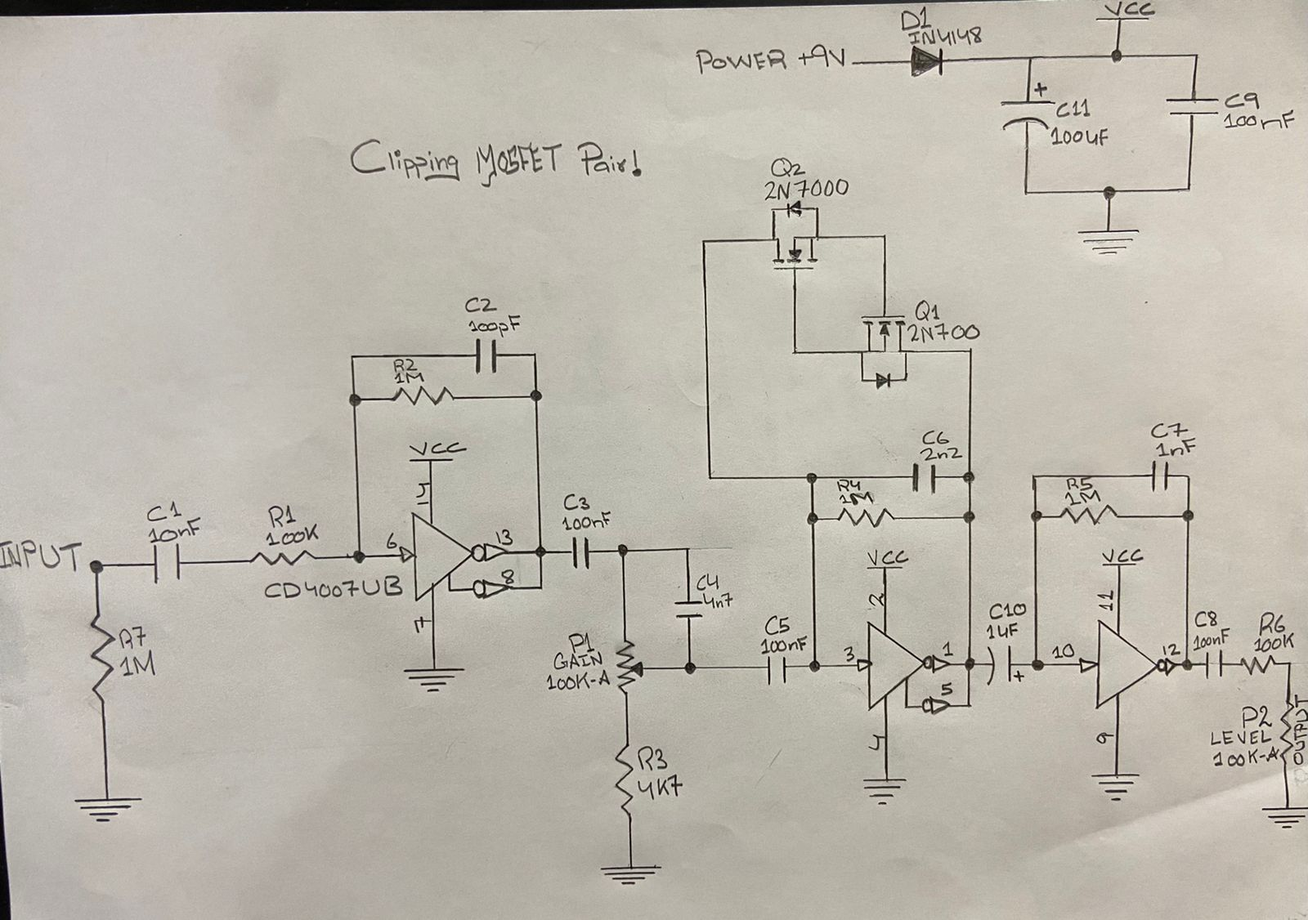capacitor.polarized: (999, 81, 1057, 133), (984, 644, 1028, 688)
capacitor.unpolarized: (1163, 93, 1220, 119), (151, 541, 183, 586), (472, 335, 499, 377), (910, 461, 939, 495), (569, 534, 594, 572), (1148, 458, 1173, 494), (765, 654, 790, 689), (670, 597, 706, 621), (1203, 648, 1225, 681)
diode: (908, 45, 947, 80), (785, 199, 804, 220), (874, 371, 893, 391)
gnd: (69, 790, 146, 827), (400, 662, 468, 696), (1073, 226, 1142, 259), (1089, 770, 1142, 803), (858, 774, 907, 808), (599, 863, 665, 887), (1260, 805, 1308, 831)
junction: (87, 556, 106, 576), (1100, 183, 1118, 200), (349, 547, 366, 564), (1108, 47, 1124, 64), (527, 387, 544, 403), (681, 659, 697, 676), (960, 468, 976, 485), (347, 391, 363, 407), (532, 543, 548, 559), (804, 510, 820, 525), (961, 509, 976, 525), (1180, 507, 1195, 523), (1029, 656, 1044, 672), (1028, 508, 1043, 523), (962, 656, 976, 671), (807, 657, 821, 672), (1180, 657, 1194, 672), (804, 471, 818, 485), (615, 542, 629, 556), (1189, 49, 1202, 61), (1181, 182, 1194, 194), (1020, 186, 1032, 198), (528, 348, 540, 360), (1182, 470, 1194, 482), (1024, 52, 1036, 63), (1028, 471, 1040, 482), (445, 584, 456, 596), (963, 700, 974, 711), (789, 346, 800, 357), (698, 236, 709, 247), (535, 582, 546, 592), (347, 351, 357, 362), (705, 471, 715, 482), (879, 230, 889, 241), (902, 703, 913, 713), (682, 543, 692, 553), (768, 205, 778, 215), (769, 234, 780, 243), (858, 347, 867, 358), (813, 232, 822, 242), (1285, 659, 1294, 668), (858, 376, 867, 385), (902, 375, 911, 384), (812, 204, 822, 212), (903, 347, 911, 357), (967, 346, 975, 355)
operational_amplifier: (398, 513, 485, 601), (863, 619, 934, 713), (1091, 620, 1161, 709)
resistor: (83, 612, 118, 710), (610, 739, 641, 818), (246, 545, 316, 569), (390, 385, 458, 409), (1058, 503, 1120, 527), (835, 506, 897, 529), (1279, 699, 1295, 767), (1239, 652, 1277, 677)
resistor.adjustable: (609, 636, 647, 694)
terminal: (1095, 16, 1151, 23), (407, 457, 455, 464), (1100, 561, 1139, 569), (865, 565, 906, 572), (849, 57, 858, 69)
text: (338, 132, 643, 192), (262, 572, 405, 601), (1, 536, 86, 577), (694, 47, 789, 77), (763, 176, 851, 203), (906, 320, 984, 345), (544, 667, 618, 693), (1209, 746, 1281, 770), (1222, 108, 1297, 131), (147, 516, 204, 546), (907, 25, 983, 47), (1050, 123, 1109, 149), (264, 521, 320, 547), (1209, 724, 1272, 747), (638, 772, 685, 802), (796, 42, 847, 69), (463, 315, 522, 336), (1292, 692, 1308, 767), (119, 648, 158, 677), (408, 439, 468, 457), (553, 650, 604, 671), (560, 511, 611, 531), (636, 744, 669, 773), (1252, 632, 1297, 653), (1151, 438, 1198, 458), (759, 636, 810, 654), (1240, 703, 1274, 730), (146, 499, 184, 523), (1103, 1, 1158, 17), (899, 5, 930, 33), (1101, 545, 1144, 565), (1150, 420, 1190, 441), (1222, 91, 1262, 112), (267, 502, 298, 529), (1257, 610, 1288, 637), (1056, 96, 1092, 119), (117, 624, 148, 650), (769, 156, 805, 178), (919, 444, 961, 462), (869, 547, 910, 565), (1063, 489, 1103, 507), (567, 631, 598, 654), (983, 621, 1020, 640), (988, 600, 1027, 618), (920, 427, 952, 448), (1191, 632, 1228, 650), (463, 296, 497, 315), (913, 299, 941, 321), (838, 490, 876, 506), (562, 492, 593, 511), (703, 592, 734, 611), (764, 614, 792, 635), (695, 571, 723, 592), (1095, 588, 1116, 614), (1193, 609, 1220, 628), (393, 371, 426, 386), (1064, 477, 1096, 492), (414, 480, 431, 507), (1050, 642, 1076, 659), (494, 527, 516, 547), (410, 615, 433, 634), (835, 479, 864, 493), (392, 358, 419, 373), (867, 733, 887, 753), (866, 591, 884, 610), (1095, 730, 1116, 746), (384, 529, 399, 551), (1161, 641, 1180, 658), (938, 680, 955, 699), (940, 638, 954, 660), (499, 568, 516, 586), (842, 645, 857, 663)
transistor.fet: (859, 314, 909, 356), (770, 233, 822, 271)
